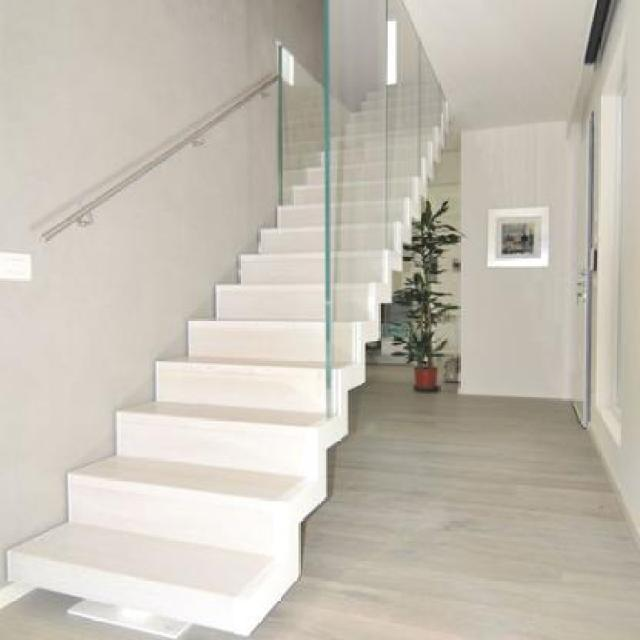stair: (0, 64, 462, 618)
